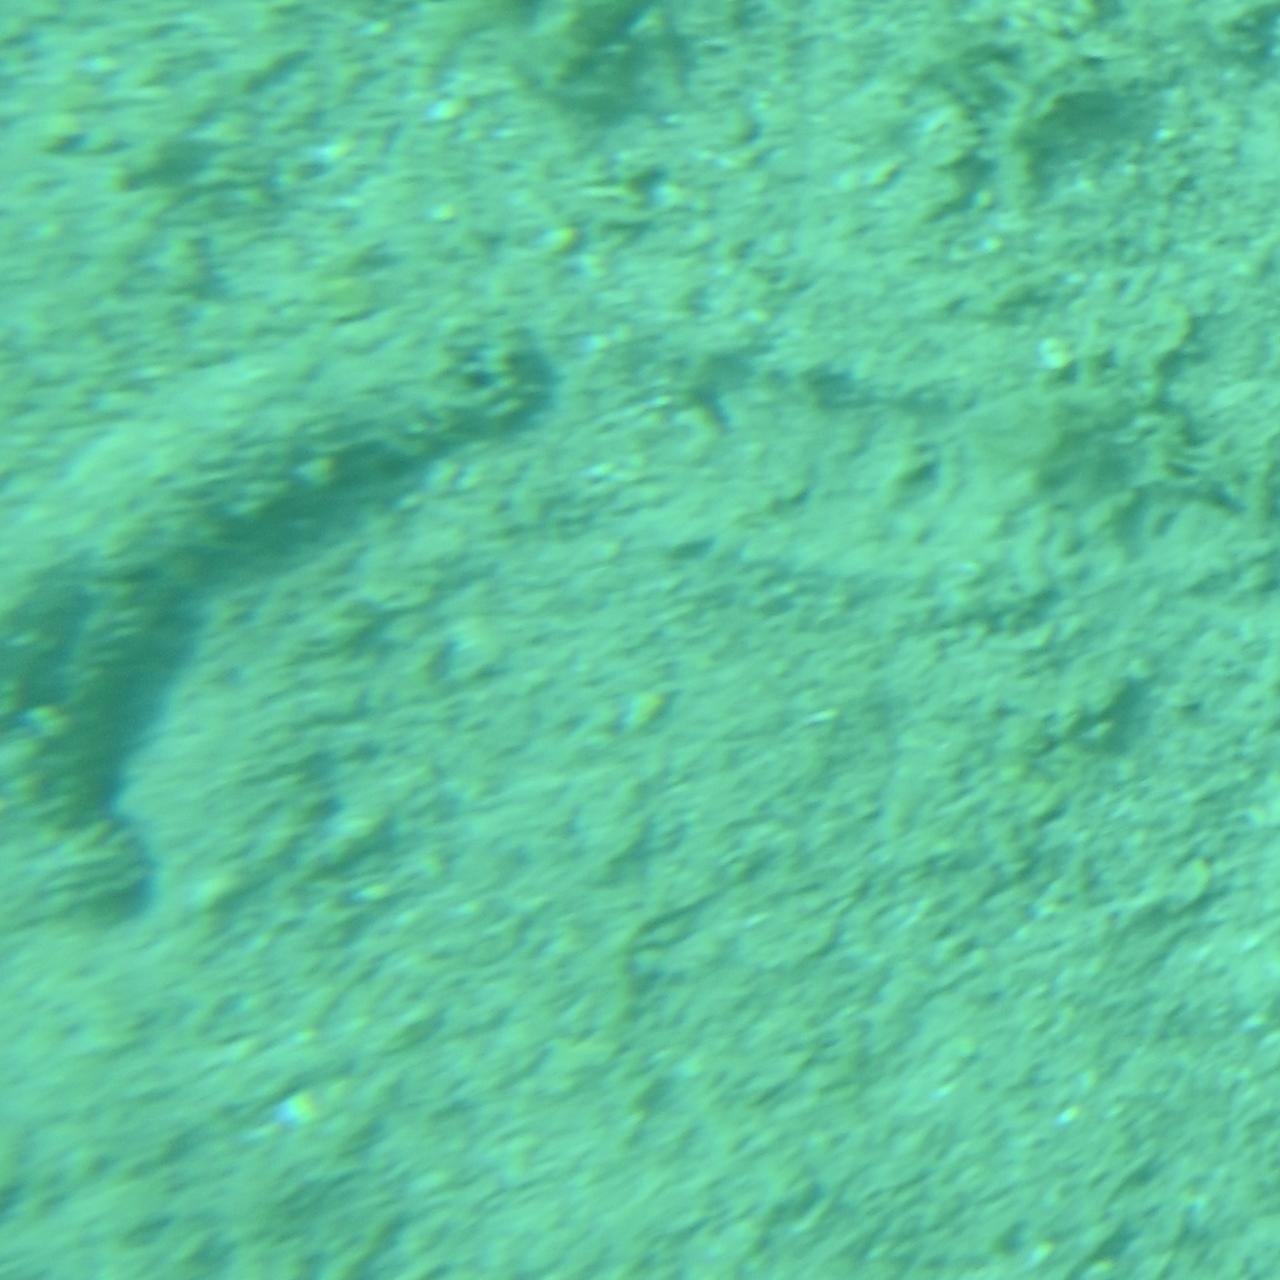Holothuria tubulosa: (0, 294, 566, 986)
